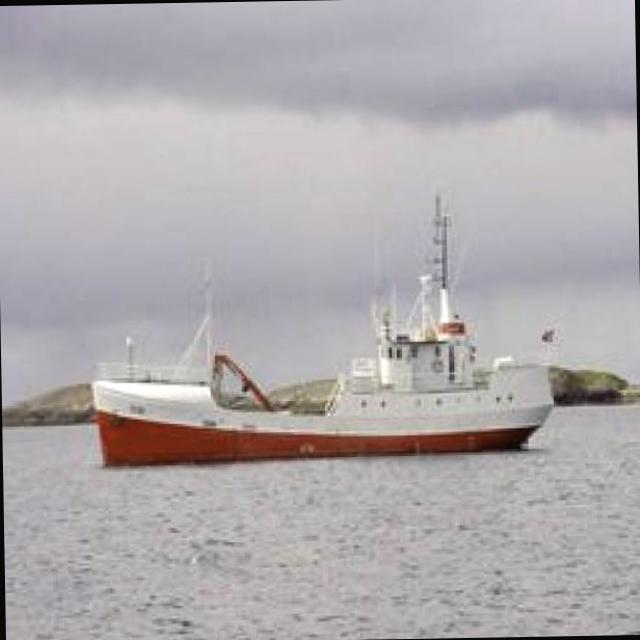ship2: (88, 190, 553, 468)
